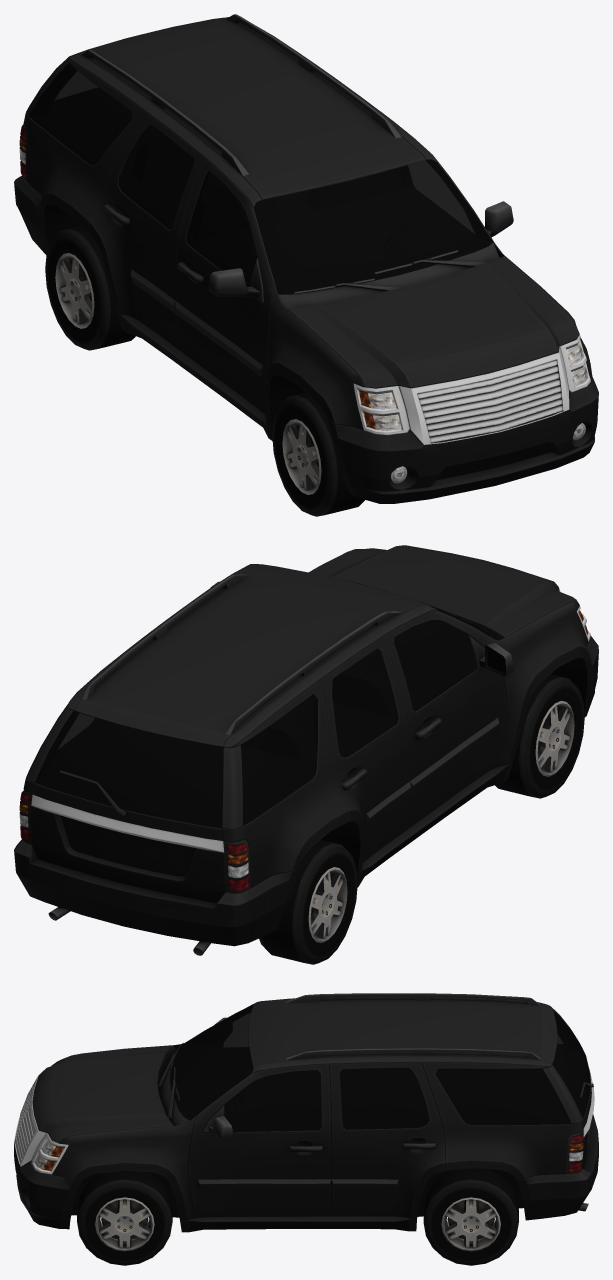
The model's file is Pack_SUV.gltf.
The picture shows the model from 3 angles, top to bottom: view 1: azimuth 30°, elevation 25°; view 2: azimuth 150°, elevation 25°; view 3: azimuth 270°, elevation 25°; orthographic projection. The views are drawn at different scales.
Parts seen in each view (by area): view 1: SUV Body, Wheel_E003, Wheel_E002; view 2: SUV Body, Wheel_E003, Wheel_E002; view 3: SUV Body, Wheel_E001, Wheel_E.
Boxes of the visible parts, left/top/right/bottom form: SUV Body: left=14, top=14, right=598, bottom=503; Wheel_E003: left=45, top=225, right=135, bottom=350; Wheel_E002: left=272, top=392, right=364, bottom=516; SUV Body: left=14, top=545, right=598, bottom=955; Wheel_E003: left=259, top=839, right=357, bottom=964; Wheel_E002: left=495, top=674, right=584, bottom=798; SUV Body: left=14, top=993, right=598, bottom=1232; Wheel_E001: left=423, top=1168, right=518, bottom=1265; Wheel_E: left=77, top=1170, right=172, bottom=1265.
Size of the model in its own units: 2.07 by 1.73 by 4.61.
4 materials, 3 textured.
